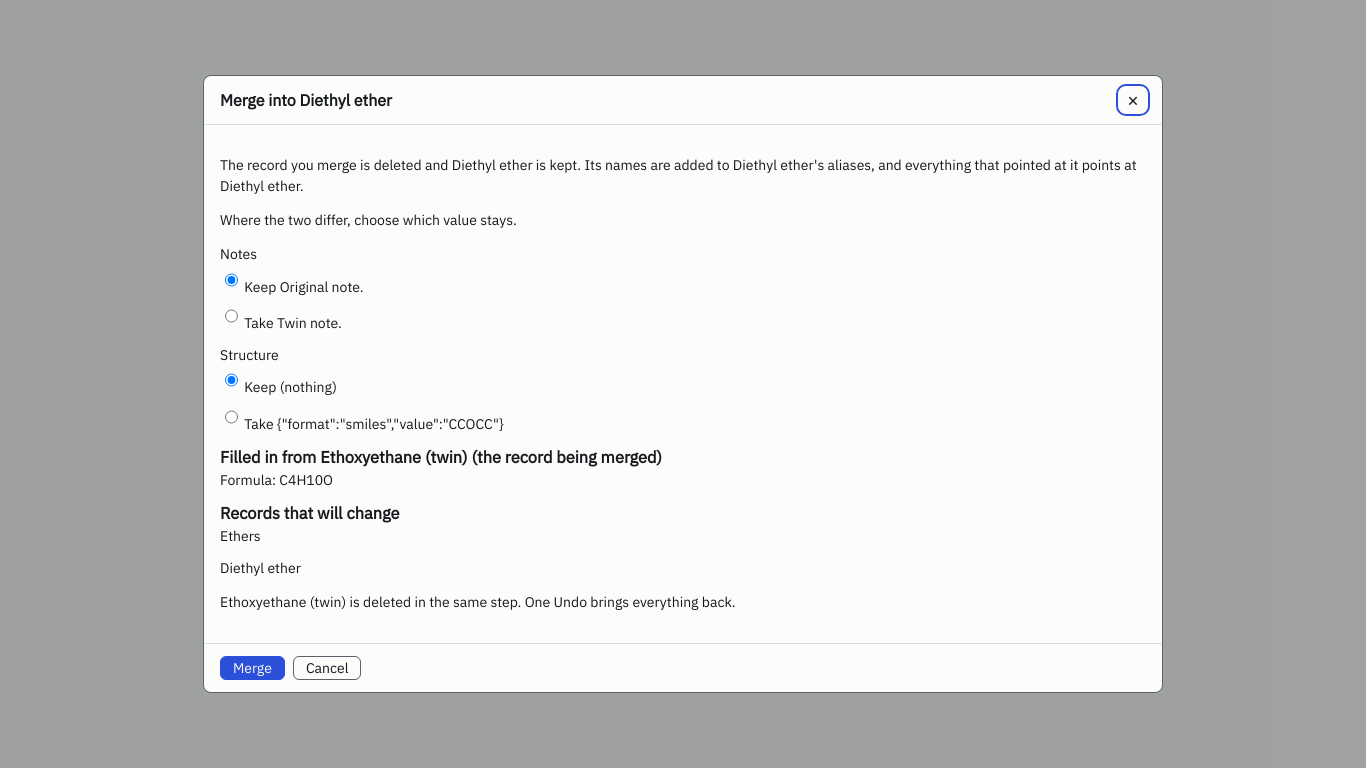
Scenario: Merge › a refusal from the store is said in words and the dialog stays
Expected: the element "Notes" is shown, [220, 245, 364, 332]
Click the button "Merge" at (252, 668), box [220, 656, 285, 680]
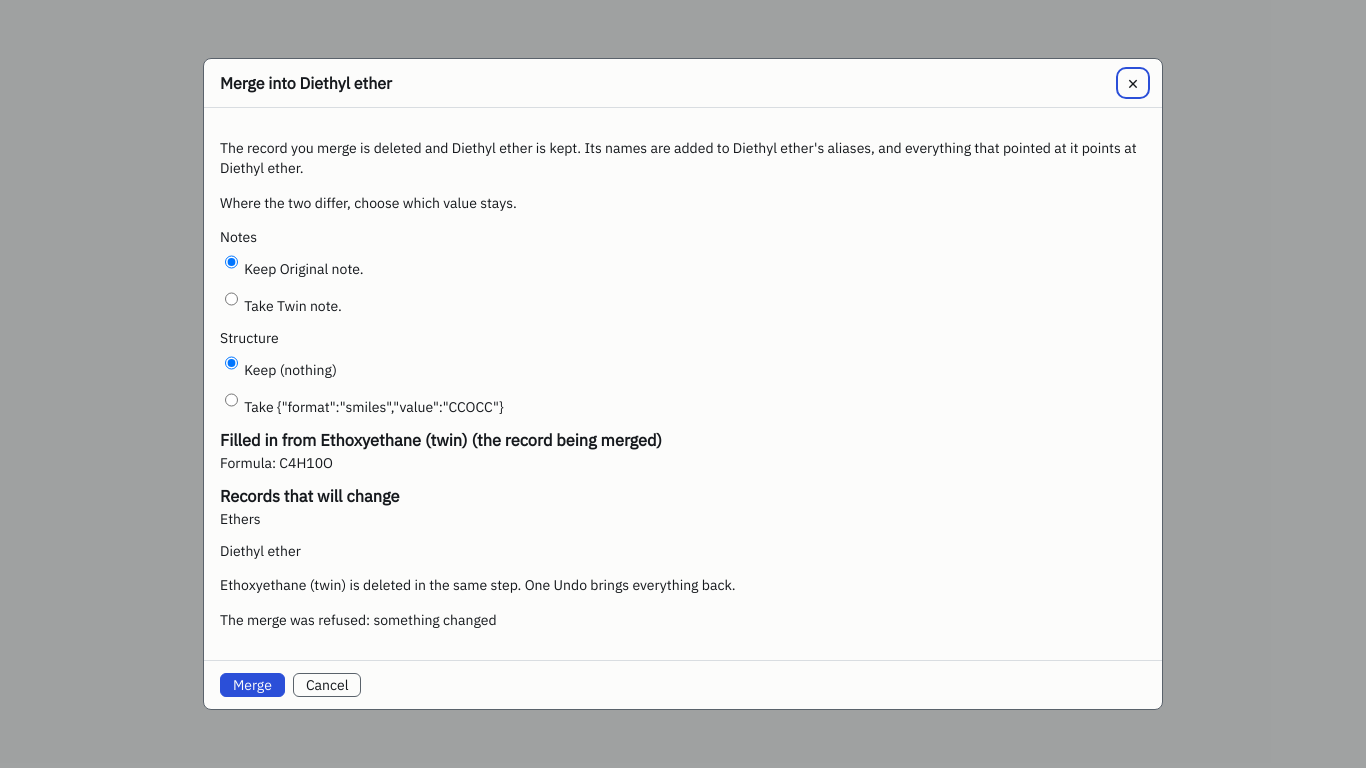
Expected: the message shows "The merge was refused", [220, 610, 497, 628]
